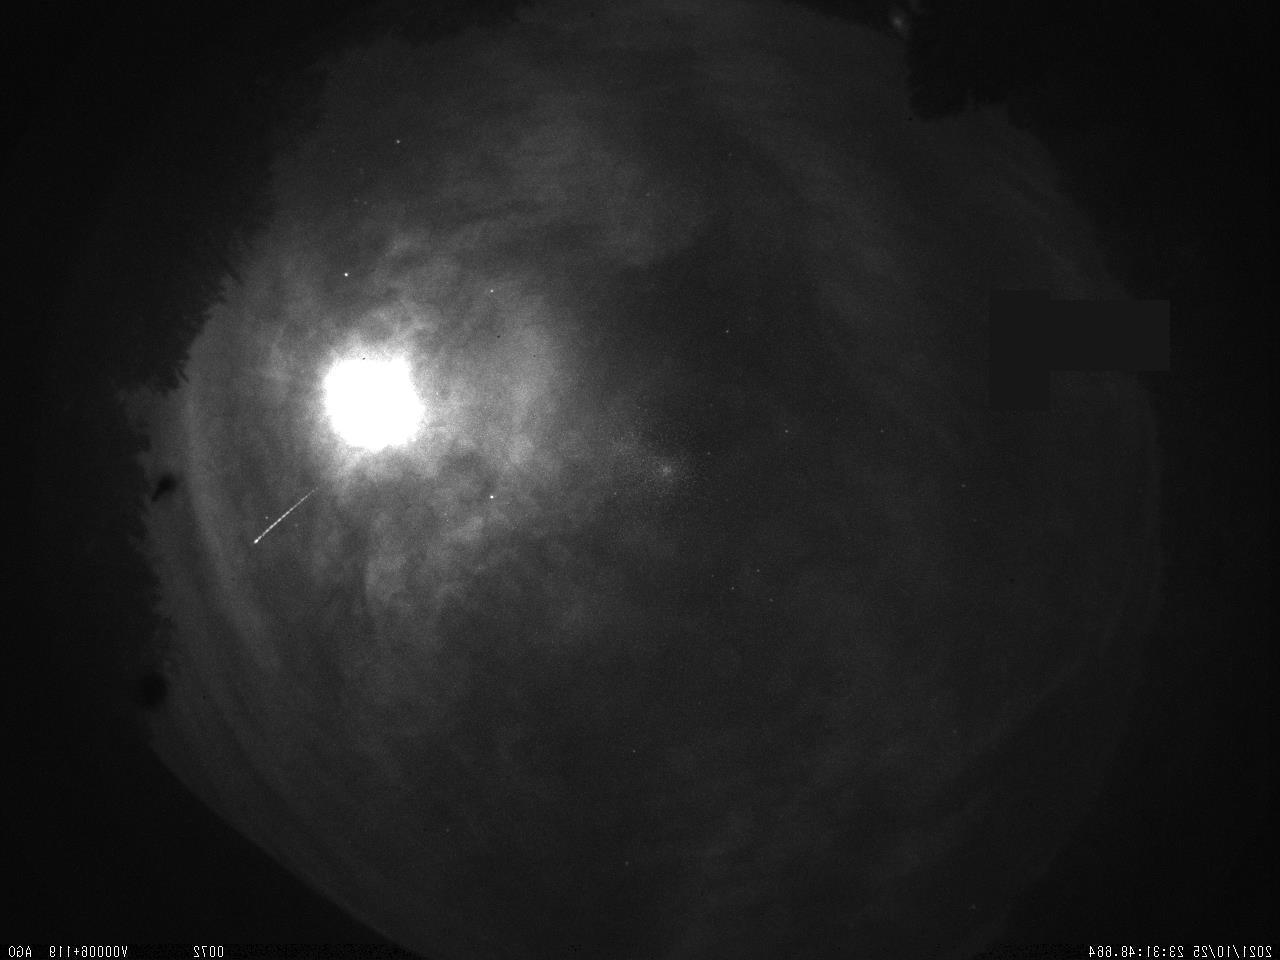meteor: (257, 469, 330, 549)
